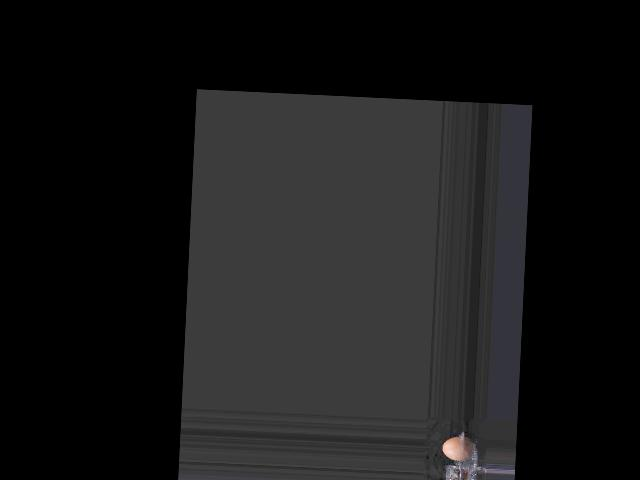egg: (442, 435, 474, 461)
